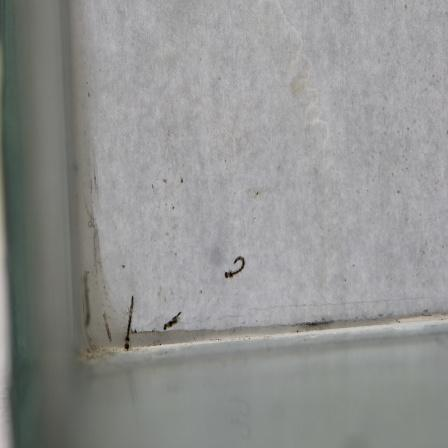Jentik-Nyamuk: (120, 293, 136, 352), (220, 253, 247, 281), (160, 309, 186, 333)
